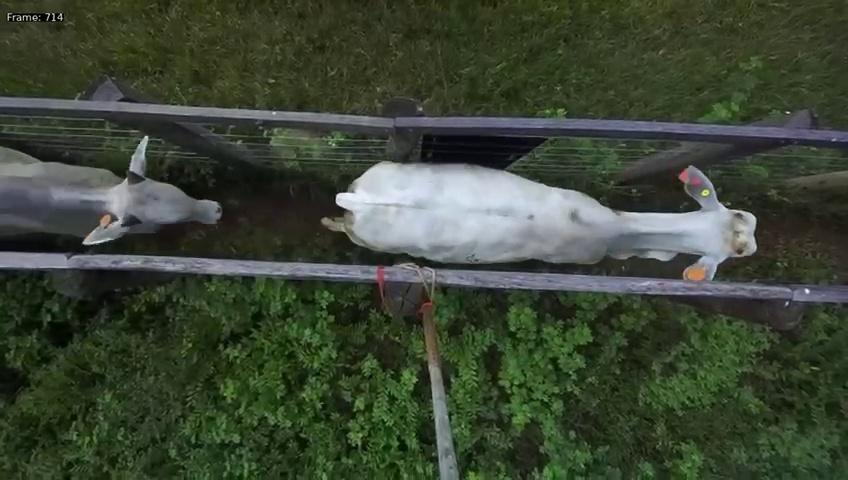cattle: (318, 151, 758, 280), (1, 135, 223, 255)
